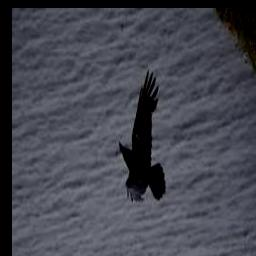Crow: (118, 70, 166, 206)
